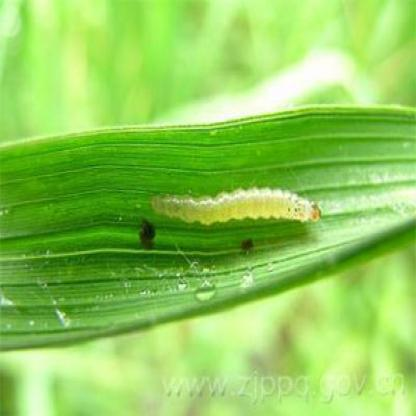leaf-folder: (148, 180, 324, 250)
